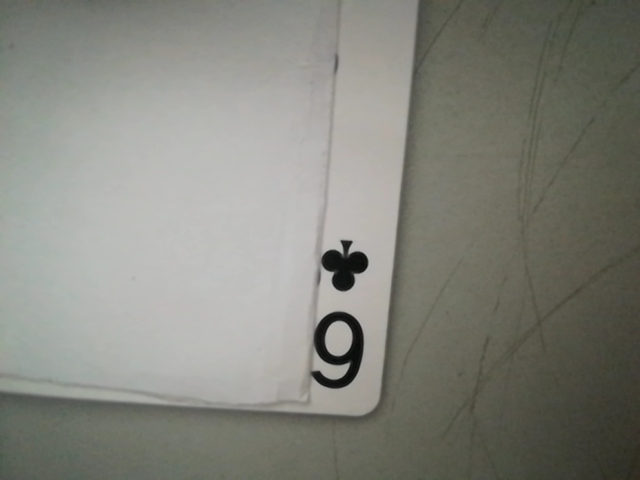mh 6: (299, 233, 384, 405)
